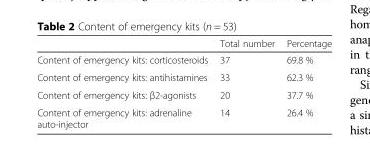table: (36, 37, 331, 129)
table column: (36, 37, 213, 129), (213, 37, 279, 129), (279, 37, 331, 129)
table column header: (36, 37, 331, 51)
table row: (36, 103, 331, 129), (36, 85, 331, 103), (36, 51, 331, 68), (36, 68, 331, 85), (36, 37, 331, 51)
